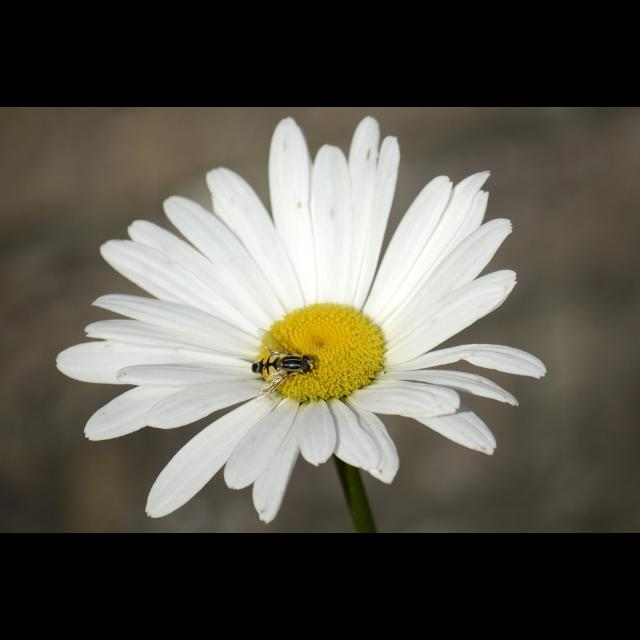Flower: (52, 147, 542, 525)
